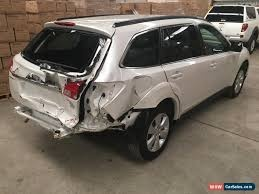Broken-glass: (69, 81, 105, 100)
Smashed: (13, 67, 149, 139)
